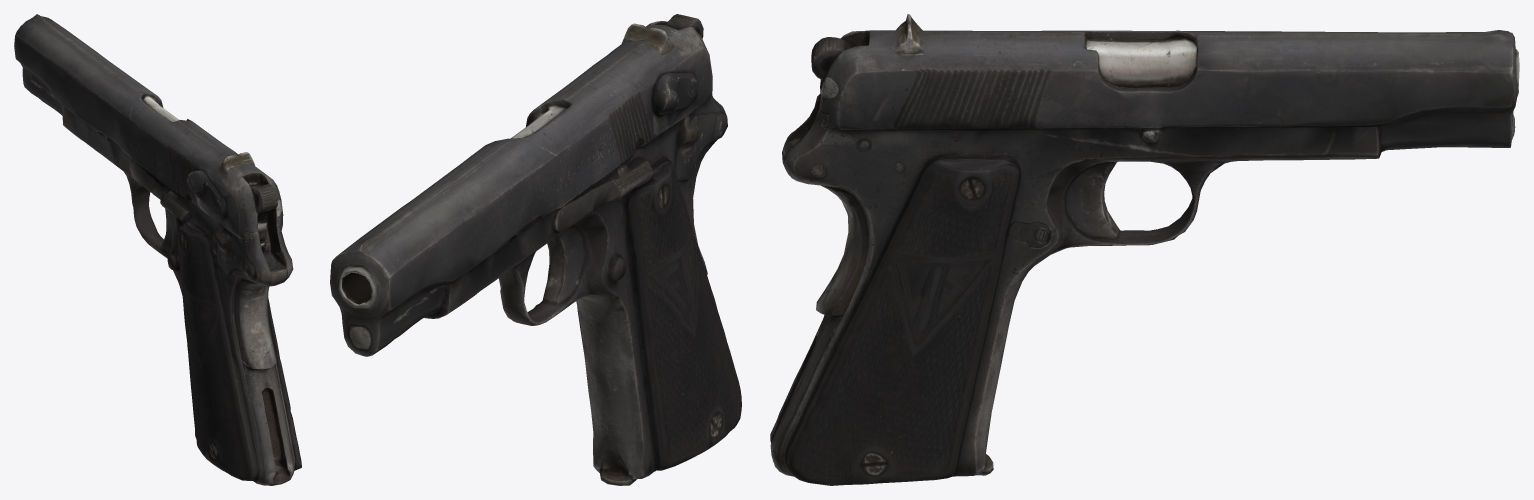
File: zz_pistol.glb
3 renders of one model, left to right at view 1: azimuth 30°, elevation 25°; view 2: azimuth 150°, elevation 25°; view 3: azimuth 270°, elevation 25°, orthographic. The views are drawn at different scales.
Parts seen in each view (by area): view 1: weapon; view 2: weapon; view 3: weapon.
Boxes of the visible parts, x1,y1,x2,y2 form: weapon: (14,14,301,485); weapon: (330,14,741,485); weapon: (770,14,1519,485).
Bounding box in the file's own units: 0.0325 × 0.1323 × 0.1999.
1 material, 1 textured.
